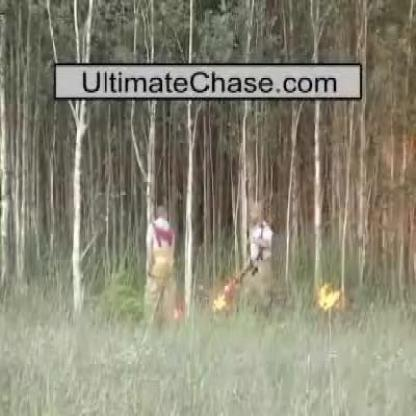foggia-v2-map80-epoch100 - v1 4323: (319, 284, 340, 312), (213, 293, 228, 311)
